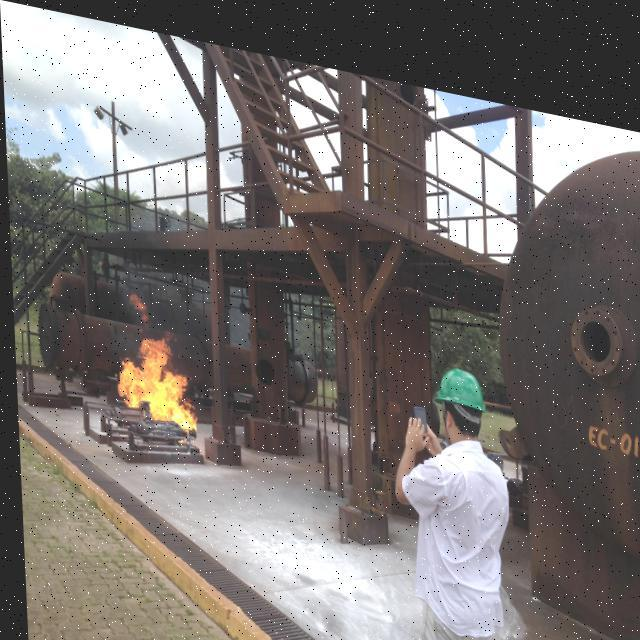Fire: (116, 324, 196, 439)
